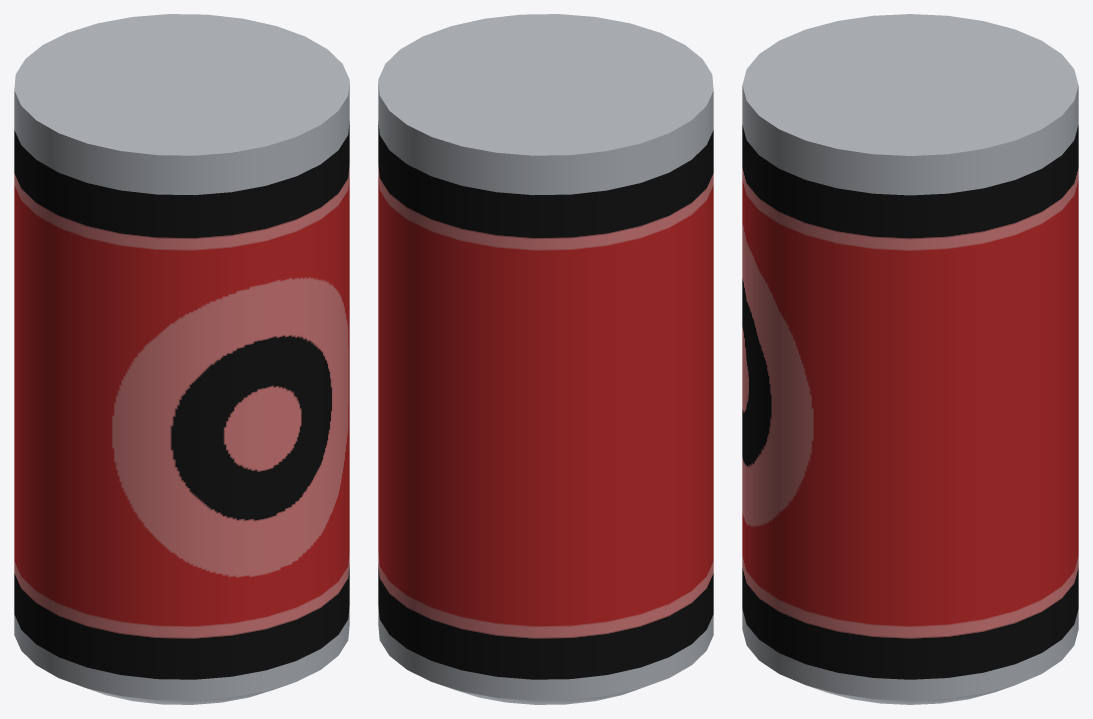
Rendered from Cola.fbx.
3 views of the same model, side by side, from view 1: azimuth 30°, elevation 25°; view 2: azimuth 150°, elevation 25°; view 3: azimuth 270°, elevation 25° (orthographic).
Parts seen in each view (by area): view 1: Cola; view 2: Cola; view 3: Cola.
Part boxes in pixels (x1,y1,x2,y2): Cola: [14, 14, 349, 704]; Cola: [378, 14, 713, 704]; Cola: [742, 14, 1078, 704].
Size of the model in its own units: 0.066 by 0.122 by 0.066.
2 materials, 1 textured.
